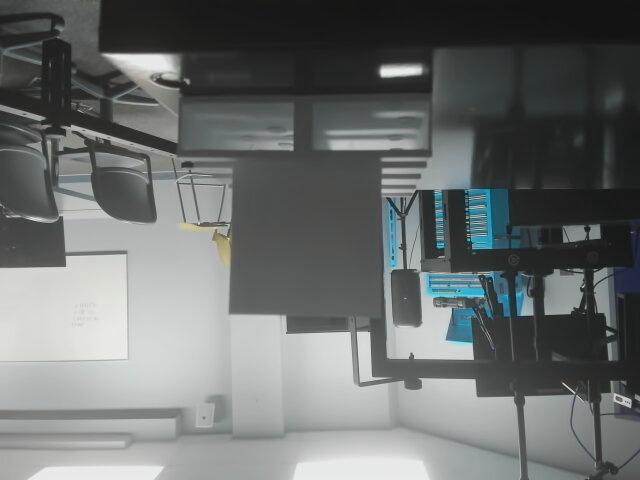grey pallet: (173, 80, 440, 330)
